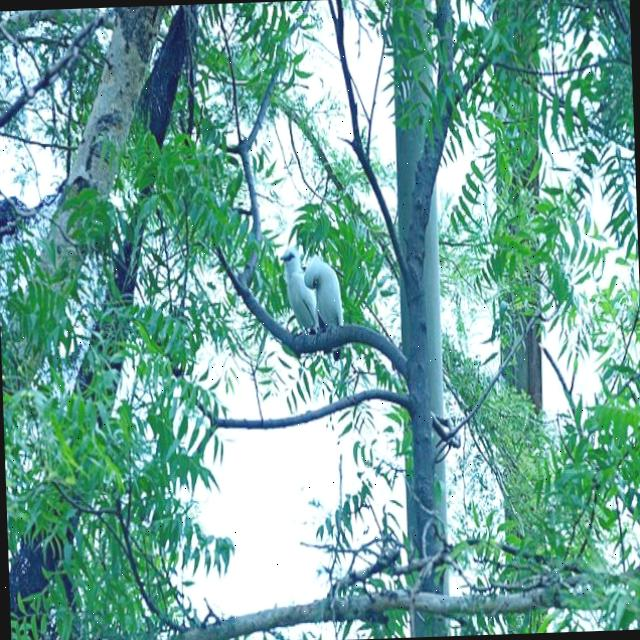Jalak Bali: (274, 242, 310, 337), (304, 258, 346, 336)
